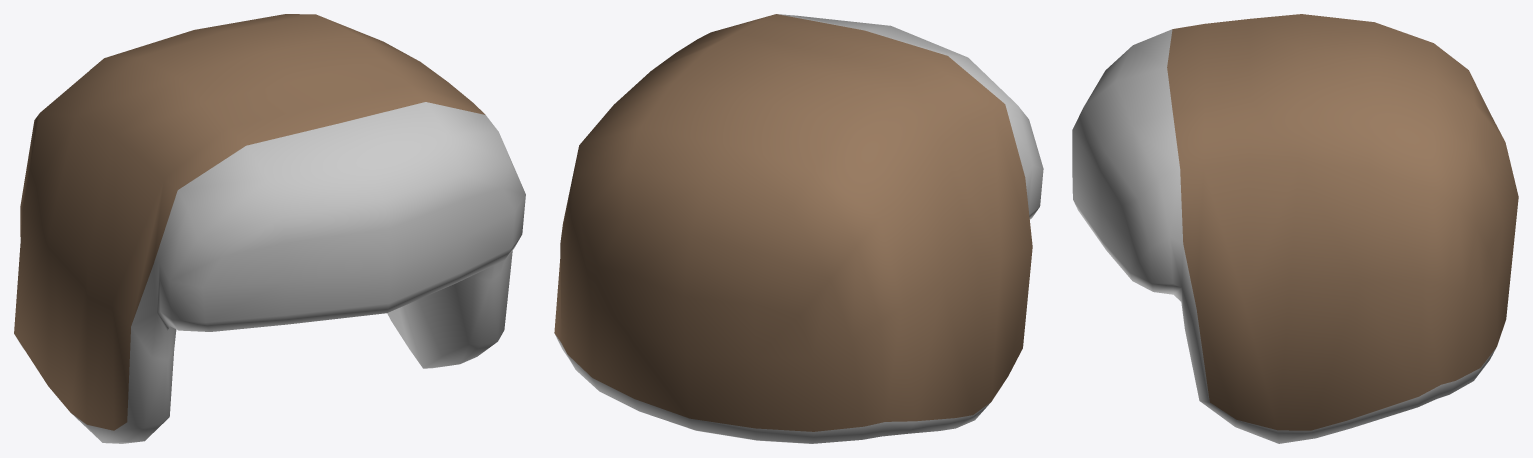
Rendered from hat_earpiece.fbx.
The picture shows the model from 3 angles, left to right: view 1: azimuth 30°, elevation 25°; view 2: azimuth 150°, elevation 25°; view 3: azimuth 270°, elevation 25°; orthographic projection. The views are drawn at different scales.
Visible parts, largest first — view 1: Hat02; view 2: Hat02; view 3: Hat02.
Boxes of the visible parts, <box> form: Hat02: <box>14,14,525,443</box>; Hat02: <box>554,14,1043,443</box>; Hat02: <box>1072,14,1518,443</box>.
Bounding box in the file's own units: 0.8081 × 0.6889 × 0.8738.
